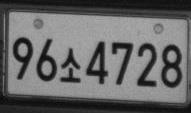2: (136, 42, 157, 86)
4: (85, 40, 108, 84)
6: (36, 38, 58, 82)
7: (111, 40, 134, 86)
8: (160, 43, 183, 88)
9: (12, 36, 33, 80)
소: (59, 47, 81, 83)
